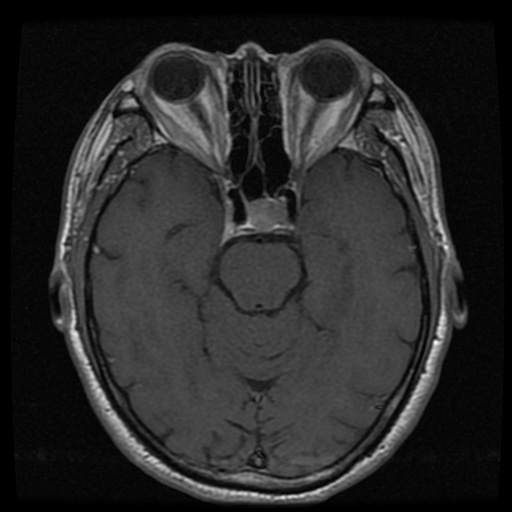pituitary: (247, 197, 286, 233)
